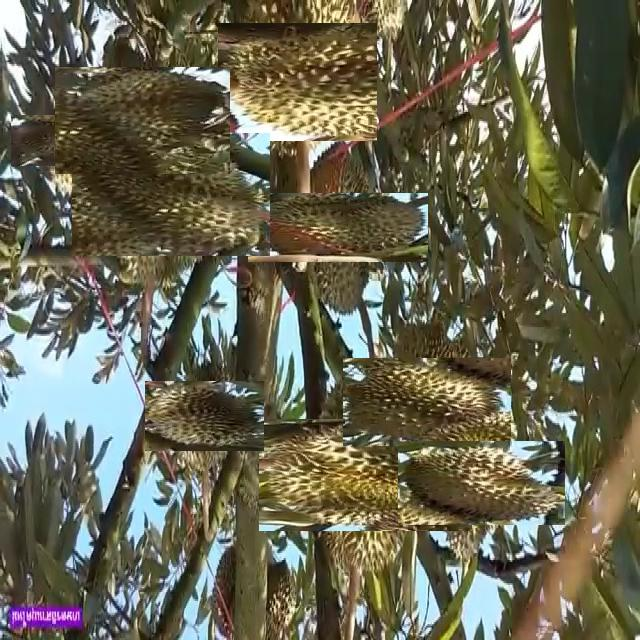durian: (284, 393, 447, 556), (91, 114, 251, 276), (72, 49, 213, 191), (228, 12, 368, 151), (362, 338, 491, 466), (418, 420, 544, 547), (276, 166, 400, 290), (158, 369, 252, 463), (30, 97, 119, 185)
